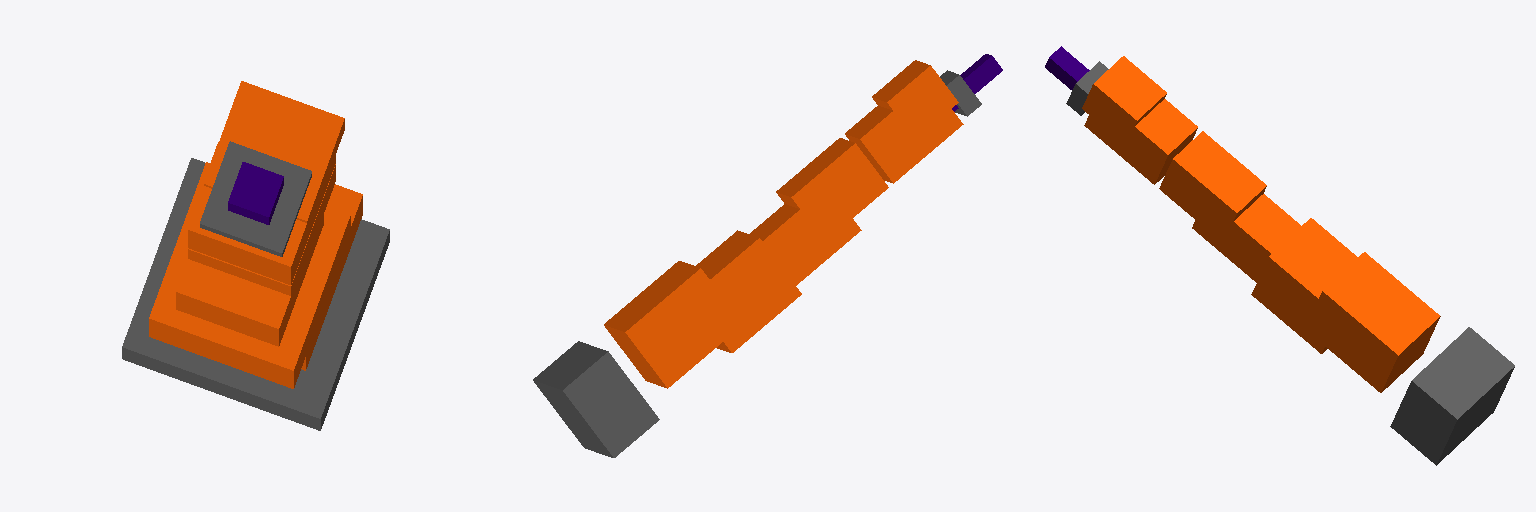
--- What the picture shows (computed from the rendered views, not written in the file) ---
The picture shows the robot from 3 angles, left to right: view 1: azimuth 30°, elevation 25°; view 2: azimuth 150°, elevation 25°; view 3: azimuth 270°, elevation 25°; orthographic projection.
Robot: bh_robot — 23 links, 22 joints (7 revolute, 15 fixed); root link world; default pose: every joint at zero.
Links seen in each view (by area): view 1: bh_link_0, bh_link_2, bh_link_6, bh_link_3, bh_link_7, bh_link_5, peg_base, bh_link_4, bh_link_1; view 2: bh_link_1, bh_link_0, bh_link_2, bh_link_3, bh_link_5, bh_link_4, bh_link_6, peg_base, bh_link_7; view 3: bh_link_1, bh_link_0, bh_link_2, bh_link_4, bh_link_5, bh_link_3, bh_link_6, peg_base, bh_link_7.
Boxes of the visible links, x1=… form: bh_link_0: x1=122, y1=158, x2=389, y2=430; bh_link_2: x1=149, y1=162, x2=350, y2=388; bh_link_6: x1=204, y1=81, x2=344, y2=231; bh_link_3: x1=176, y1=215, x2=323, y2=346; bh_link_7: x1=200, y1=141, x2=311, y2=256; bh_link_5: x1=188, y1=146, x2=335, y2=284; peg_base: x1=228, y1=162, x2=283, y2=224; bh_link_4: x1=188, y1=164, x2=335, y2=302; bh_link_1: x1=211, y1=142, x2=362, y2=370; bh_link_1: x1=604, y1=261, x2=743, y2=388; bh_link_0: x1=533, y1=341, x2=659, y2=457; bh_link_2: x1=691, y1=230, x2=801, y2=352; bh_link_3: x1=750, y1=186, x2=861, y2=285; bh_link_5: x1=845, y1=80, x2=963, y2=183; bh_link_4: x1=776, y1=138, x2=888, y2=217; bh_link_6: x1=872, y1=60, x2=958, y2=138; peg_base: x1=952, y1=54, x2=1002, y2=111; bh_link_7: x1=940, y1=70, x2=981, y2=116; bh_link_1: x1=1305, y1=252, x2=1440, y2=392; bh_link_0: x1=1390, y1=327, x2=1514, y2=465; bh_link_2: x1=1251, y1=218, x2=1357, y2=353; bh_link_4: x1=1159, y1=131, x2=1266, y2=242; bh_link_5: x1=1084, y1=99, x2=1197, y2=184; bh_link_3: x1=1192, y1=194, x2=1300, y2=282; bh_link_6: x1=1082, y1=56, x2=1166, y2=145; peg_base: x1=1045, y1=46, x2=1089, y2=89; bh_link_7: x1=1066, y1=61, x2=1108, y2=115.
Size in the robot's own frame: 0.8056 by 1.21 by 0.8948 metres.
0 mesh visuals loaded from 1 distinct referenced files (none loaded); not drawn: 1 (reference not matched to a file when rendering).

The robot description file, URDF, robot "bh_robot":
<?xml version="1.0" encoding="utf-8"?>
<!-- =================================================================================== -->
<!-- |    This document was autogenerated by xacro from iiwa_left.urdf.xacro           | -->
<!-- |    But then it was adapted by hand ¯\_(ツ)_/¯                                   | -->
<!-- |    Manual changes:                                                              | -->
<!-- |     - Disabled visuals and collision for the table and the box                  | -->
<!-- |     - Replaced iiwa joint collision mesh with box                               | -->
<!-- |     - Inserted peg                                                              | -->
<!-- |     - Configured safety limits as hardware limits                               | -->
<!-- =================================================================================== -->
<robot name="bh_robot">
  <material name="Black">
    <color rgba="0.0 0.0 0.0 1.0"/>
  </material>
  <material name="Blue">
    <color rgba="0.0 0.0 0.8 1.0"/>
  </material>
  <material name="Green">
    <color rgba="0.0 0.8 0.0 1.0"/>
  </material>
  <material name="Grey">
    <color rgba="0.4 0.4 0.4 1.0"/>
  </material>
  <material name="Orange">
    <color rgba="1.0 0.423529411765 0.0392156862745 1.0"/>
  </material>
  <material name="Brown">
    <color rgba="0.870588235294 0.811764705882 0.764705882353 1.0"/>
  </material>
  <material name="Red">
    <color rgba="0.8 0.0 0.0 1.0"/>
  </material>
  <material name="White">
    <color rgba="1.0 1.0 1.0 1.0"/>
  </material>
  <!-- Insert the BASE -->
  <link name="world"/>
  <!--  Define the origin of your 3D space
  Here we define a box lying at 0,0,0 with some dimensions, in reality our robot is place on top of a metal cart with those dimensions.
  This will include the cart in the scene and avoid the robot to hit it when using MoveIt!
  If you don't want to have that you can define a basic world link (see commented lines)
  -->
  <joint name="footprint_joint" type="fixed">
    <parent link="world"/>
    <child link="base_link"/>
    <origin rpy="0 0 0" xyz="0 0 0"/>
  </joint>
  <joint name="table_origin_joint" type="fixed">
    <parent link="base_link"/>
    <child link="table_origin"/>
    <origin xyz="0 0 0.83"/>
  </joint>
  <joint name="torso_origin_joint" type="fixed">
    <parent link="table_origin"/>
    <child link="torso_origin"/>
    <!-- x: 185mm from the CAD plus 1mm shift in mounting position y: centered half width of the table -->
    <origin xyz="0.186 0.4 0"/>
  </joint>
  <joint name="plate_1_inner_joint" type="fixed">
    <parent link="table_origin"/>
    <child link="plate_1_inner"/>
    <origin rpy="0 0 3.14159265359" xyz="1.45 0.194 0.02"/>
  </joint>
  <!-- commented out since they are typically not used
  <joint name="plate_1_outer_joint" type="fixed">
    <parent link="plate_1_inner"/>
    <child link = "plate_1_outer"/>
    <origin xyz="0 0.05 0" rpy="0 0 0" />
  </joint>
  -->
  <joint name="plate_2_inner_joint" type="fixed">
    <parent link="table_origin"/>
    <child link="plate_2_inner"/>
    <origin rpy="0 0 3.14159265359" xyz="1.45 0.606 0.02"/>
  </joint>
  <!-- commented out since they are typically not used
  <joint name="plate_2_outer_joint" type="fixed">
    <parent link="plate_2_inner"/>
    <child link = "plate_2_outer"/>
    <origin xyz="0 -0.05 0" rpy="0 0 0" />
  </joint>
  -->
  <link name="table_origin">
  </link>
  <link name="torso_origin">
  </link>
  <!-- commented out since they are typically not used
  <link name="plate_1_outer">
  </link>
  -->
  <!-- this one is typically used -->
  <link name="plate_1_inner">
  </link>
  <!-- commented out since they are typically not used
  <link name="plate_2_outer">
  </link>
  -->
  <!-- this one is typically used -->
  <link name="plate_2_inner">
  </link>
  <link name="base_link">
    <inertial>
      <origin rpy="0 0 0" xyz="0.8 0.4 0.415"/>
      <mass value="100.0"/>
      <inertia ixx="11.074162237" ixy="0.0" ixz="0.0" iyy="27.074155837" iyz="0.0" izz="26.666656"/>
    </inertial>
    <!-- <visual>
      <origin rpy="0 0 0" xyz="0.8 0.4 0.415"/>
      <geometry>
        <box size="1.6 0.8 0.83"/>
      </geometry>
      <material name="White"/>
    </visual>
    <collision>
      <origin rpy="0 0 0" xyz="0.8 0.4 0.415"/>
      <geometry>
        <box size="1.6 0.8 0.83"/>
      </geometry>
    </collision> -->
  </link>
  <gazebo reference="box_link">
    <material>Gazebo/Orange</material>
    <mu1>0.2</mu1>
    <mu2>0.2</mu2>
  </gazebo>
  <joint name="box_joint" type="fixed">
    <parent link="base_link"/>
    <child link="box_link"/>
    <origin rpy="0 0 0" xyz="0 0 0"/>
  </joint>
  <joint name="box_origin_joint" type="fixed">
    <parent link="box_link"/>
    <child link="box_origin"/>
    <origin xyz="-0.01 0 0.567"/>
  </joint>
  <link name="box_link">
    <inertial>
      <origin rpy="0 0 0" xyz="-0.41 0.4 0.2835"/>
      <mass value="100.0"/>
      <inertia ixx="8.01240512837" ixy="0.0" ixz="0.0" iyy="8.01240512837" iyz="0.0" izz="10.6666624"/>
    </inertial>
    <!-- <visual>
      <origin rpy="0 0 0" xyz="-0.41 0.4 0.2835"/>
      <geometry>
        <box size="0.8 0.8 0.567"/>
      </geometry>
      <material name="Orange"/>
    </visual>
    <collision>
      <origin rpy="0 0 0" xyz="-0.41 0.4 0.2835"/>
      <geometry>
        <box size="0.8 0.8 0.567"/>
      </geometry>
    </collision> -->
  </link>
  <link name="box_origin">
  </link>
  <joint name="iiwa_torso_base_joint" type="fixed">
    <parent link="torso_origin"/>
    <child link="iiwa_torso_base"/>
    <origin rpy="0 0 3.14159265359" xyz="0 0 0"/>
  </joint>
  <joint name="iiwa_torso_left_joint" type="fixed">
    <parent link="iiwa_torso_base"/>
    <child link="iiwa_torso_left"/>
    <origin rpy="-1.01985341 -0.3007097 -0.70361386" xyz="0.065 0.1126 0.10074"/>
  </joint>
  <joint name="iiwa_torso_right_joint" type="fixed">
    <parent link="iiwa_torso_base"/>
    <child link="iiwa_torso_right"/>
    <origin rpy="1.01985341 -0.3007097  0.70361386" xyz="0.065 -0.1126 0.10074"/>
  </joint>
  <joint name="iiwa_torso_back_joint" type="fixed">
    <parent link="iiwa_torso_base"/>
    <child link="iiwa_torso_back"/>
    <origin rpy="1.01985341 -0.3007097 -1.39078124" xyz="-0.13 0 0.10074"/>
  </joint>
  <link name="iiwa_torso_left">
    </link>
  <link name="iiwa_torso_right">
    </link>
  <link name="iiwa_torso_back">
    </link>
  <link name="iiwa_torso_base">
    <inertial>
      <origin rpy="0 0 0" xyz="0 0 0"/>
      <mass value="17.097"/>
      <inertia ixx="0.231426028862462" ixy="3.4651505109641E-07" ixz="9.00820316949685E-07" iyy="0.352096317978007" iyz="1.23740976421988E-05" izz="0.231751030960783"/>
    </inertial>
    <visual>
      <origin rpy="0 0 0" xyz="0 0 0"/>
      <geometry>
        <mesh filename="package://bh_description/meshes/iiwa_mount/iiwa_torso.stl"/>
      </geometry>
      <material name="grey">
        <color rgba="0.8667 0.86667 0.8902 1"/>
      </material>
    </visual>
    <!--
        <collision>
        <origin
            xyz="${mount_origin}" rpy="0 0 0" />
        <geometry>
            <mesh
            filename="package://bh_description/meshes/iiwa_mount/iiwa_torso.stl" />
        </geometry>
        </collision>
        -->
  </link>
  <!--joint between {parent} and link_0-->
  <joint name="iiwa_torso_left_bh_joint" type="fixed">
    <origin rpy="0 0 0" xyz="0 0 0"/>
    <parent link="iiwa_torso_left"/>
    <child link="bh_link_0"/>
  </joint>
  <link name="bh_link_0">
    <inertial>
      <origin rpy="0 0 0" xyz="-0.1 0 0.07"/>
      <mass value="5"/>
      <inertia ixx="0.05" ixy="0" ixz="0" iyy="0.06" iyz="0" izz="0.03"/>
    </inertial>
    <visual>
      <origin rpy="0 0 0" xyz="0 0 0"/>
      <geometry>
        <!-- <mesh filename="package://iiwa_description/meshes/iiwa7/visual/link_0.stl"/> -->
        <box size="0.24 0.23 0.1575"/>
      </geometry>
      <material name="Grey"/>
    </visual>
    <collision>
      <origin rpy="0 0 0" xyz="0 0 0"/>
      <geometry>
        <!-- <mesh filename="package://iiwa_description/meshes/iiwa7/collision/link_0.stl"/> -->
        <box size="0.24 0.23 0.1575"/>
      </geometry>
      <material name="Grey"/>
    </collision>
    <self_collision_checking>
      <origin rpy="0 0 0" xyz="0 0 0"/>
      <geometry>
        <capsule length="0.25" radius="0.15"/>
      </geometry>
    </self_collision_checking>
  </link>
  <!-- joint between link_0 and link_1 -->
  <joint name="bh_joint_1" type="revolute">
    <parent link="bh_link_0"/>
    <child link="bh_link_1"/>
    <origin rpy="0 0 0" xyz="0 0 0.15"/>
    <axis xyz="0 0 1"/>
    <limit effort="176" lower="-2.81870674197" upper="2.81870674197" velocity="1.71042266695"/>
    <safety_controller k_position="100" k_velocity="10" soft_lower_limit="-2.81870674197" soft_upper_limit="2.81870674197"/>
    <dynamics damping="0.5"/>
  </joint>
  <link name="bh_link_1">
    <inertial>
      <origin rpy="0 0 0" xyz="0 -0.03 0.12"/>
      <mass value="3.4525"/>
      <inertia ixx="0.02183" ixy="0" ixz="0" iyy="0.007703" iyz="-0.003887" izz="0.02083"/>
    </inertial>
    <visual>
      <origin rpy="0 0 0" xyz="0 -0.02 0.13"/>
      <geometry>
        <!-- <mesh filename="package://iiwa14/collision/link_1${collision_postfix}.stl"/> -->
        <box size="0.175 0.19 0.26"/>
      </geometry>
      <material name="Orange"/>
    </visual>
    <collision>
      <origin rpy="0 0 0" xyz="0 -0.02 0.13"/>
      <geometry>
        <!-- <mesh filename="package://iiwa14/collision/link_1${collision_postfix}.stl"/> -->
        <box size="0.175 0.19 0.26"/>
      </geometry>
      <material name="Orange"/>
    </collision>
  </link>
  <joint name="bh_joint_2" type="revolute">
    <parent link="bh_link_1"/>
    <child link="bh_link_2"/>
    <origin rpy="1.57079632679   0 3.14159265359" xyz="0 0 0.19"/>
    <axis xyz="0 0 1"/>
    <limit effort="176" lower="-1.98967534727" upper="1.98967534727" velocity="1.71042266695"/>
    <safety_controller k_position="100" k_velocity="10" soft_lower_limit="-1.98967534727" soft_upper_limit="1.98967534727"/>
    <dynamics damping="0.5"/>
  </joint>
  <link name="bh_link_2">
    <inertial>
      <origin rpy="0 0 0" xyz="0.0003 0.059 0.042"/>
      <mass value="3.4821"/>
      <inertia ixx="0.02076" ixy="0" ixz="-0.003626" iyy="0.02179" iyz="0" izz="0.00779"/>
    </inertial>
    <visual>
      <origin rpy="0 0 0" xyz="0 0.12 0.02"/>
      <geometry>
        <!-- <mesh filename="package://iiwa14/collision/link_2${collision_postfix}.stl"/> -->
        <box size="0.175 0.24 0.19"/>
      </geometry>
      <material name="Orange"/>
    </visual>
    <collision>
      <origin rpy="0 0 0" xyz="0 0.12 0.02"/>
      <geometry>
        <!-- <mesh filename="package://iiwa14/collision/link_2${collision_postfix}.stl"/> -->
        <box size="0.175 0.24 0.19"/>
      </geometry>
      <material name="Orange"/>
    </collision>
  </link>
  <joint name="bh_joint_3" type="revolute">
    <parent link="bh_link_2"/>
    <child link="bh_link_3"/>
    <origin rpy="1.57079632679 0 3.14159265359" xyz="0 0.21 0"/>
    <axis xyz="0 0 1"/>
    <limit effort="110" lower="-2.81870674197" upper="2.81870674197" velocity="1.74532925199"/>
    <safety_controller k_position="100" k_velocity="10" soft_lower_limit="-2.81870674197" soft_upper_limit="2.81870674197"/>
    <dynamics damping="0.5"/>
  </joint>
  <link name="bh_link_3">
    <inertial>
      <origin rpy="0 0 0" xyz="0 0.03 0.13"/>
      <mass value="4.05623"/>
      <inertia ixx="0.03204" ixy="0" ixz="0" iyy="0.00972" iyz="0.006227" izz="0.03042"/>
    </inertial>
    <visual>
      <origin rpy="0 0 0" xyz="0 0.02 0.13"/>
      <geometry>
        <!-- <mesh filename="package://iiwa14/collision/link_3${collision_postfix}.stl"/> -->
        <box size="0.125 0.15 0.26"/>
      </geometry>
      <material name="Orange"/>
    </visual>
    <collision>
      <origin rpy="0 0 0" xyz="0 0.02 0.13"/>
      <geometry>
        <!-- <mesh filename="package://iiwa14/collision/link_3${collision_postfix}.stl"/> -->
        <box size="0.125 0.15 0.26"/>
      </geometry>
      <material name="Orange"/>
    </collision>
  </link>
  <joint name="bh_joint_4" type="revolute">
    <parent link="bh_link_3"/>
    <child link="bh_link_4"/>
    <origin rpy="1.57079632679 0 0" xyz="0 0 0.19"/>
    <axis xyz="0 0 1"/>
    <limit effort="110" lower="-1.98967534727" upper="1.98967534727" velocity="2.26892802759"/>
    <safety_controller k_position="100" k_velocity="10" soft_lower_limit="-1.98967534727" soft_upper_limit="1.98967534727"/>
    <dynamics damping="0.5"/>
  </joint>
  <link name="bh_link_4">
    <inertial>
      <origin rpy="0 0 0" xyz="0 0.067 0.034"/>
      <mass value="3.4822"/>
      <inertia ixx="0.02178" ixy="0" ixz="0" iyy="0.02075" iyz="-0.003625" izz="0.007785"/>
    </inertial>
    <visual>
      <origin rpy="0 0 0" xyz="0 0.085 0.02"/>
      <geometry>
        <!-- <mesh filename="package://iiwa14/collision/link_4${collision_postfix}.stl"/> -->
        <box size="0.125 0.22 0.15"/>
      </geometry>
      <material name="Orange"/>
    </visual>
    <collision>
      <origin rpy="0 0 0" xyz="0 0.085 0.02"/>
      <geometry>
        <!-- <mesh filename="package://iiwa14/collision/link_4${collision_postfix}.stl"/> -->
        <box size="0.125 0.22 0.15"/>
      </geometry>
      <material name="Orange"/>
    </collision>
  </link>
  <joint name="bh_joint_5" type="revolute">
    <parent link="bh_link_4"/>
    <child link="bh_link_5"/>
    <origin rpy="-1.57079632679 3.14159265359 0" xyz="0 0.21 0"/>
    <axis xyz="0 0 1"/>
    <limit effort="110" lower="-2.81870674197" upper="2.81870674197" velocity="2.44346095279"/>
    <safety_controller k_position="100" k_velocity="10" soft_lower_limit="-2.81870674197" soft_upper_limit="2.81870674197"/>
    <dynamics damping="0.5"/>
  </joint>
  <link name="bh_link_5">
    <inertial>
      <origin rpy="0 0 0" xyz="0.0001 0.021 0.076"/>
      <mass value="2.1633"/>
      <inertia ixx="0.01287" ixy="0" ixz="0" iyy="0.005708" iyz="-0.003946" izz="0.01112"/>
    </inertial>
    <visual>
      <origin rpy="0 0 0" xyz="0 0.02 0.12"/>
      <geometry>
        <!-- <mesh filename="package://iiwa14/collision/link_5${collision_postfix}.stl"/> -->
        <box size="0.125 0.15 0.24"/>
      </geometry>
      <material name="Orange"/>
    </visual>
    <collision>
      <origin rpy="0 0 0" xyz="0 0.02 0.12"/>
      <geometry>
        <!-- <mesh filename="package://iiwa14/collision/link_5${collision_postfix}.stl"/> -->
        <box size="0.125 0.15 0.24"/>
      </geometry>
      <material name="Orange"/>
    </collision>
  </link>
  <joint name="bh_joint_6" type="revolute">
    <parent link="bh_link_5"/>
    <child link="bh_link_6"/>
    <origin rpy="1.57079632679 0 0" xyz="0 0.06070 0.19"/>
    <axis xyz="0 0 1"/>
    <limit effort="40" lower="-1.98967534727" upper="1.98967534727" velocity="3.14159265359"/>
    <safety_controller k_position="100" k_velocity="10" soft_lower_limit="-1.98967534727" soft_upper_limit="1.98967534727"/>
    <dynamics damping="0.5"/>
  </joint>
  <link name="bh_link_6">
    <inertial>
      <origin rpy="0 0 0" xyz="0 0.0006 0.0004"/>
      <mass value="2.3466"/>
      <inertia ixx="0.006509" ixy="0" ixz="0" iyy="0.006259" iyz="0.00031891" izz="0.004527"/>
    </inertial>
    <visual>
      <origin rpy="0 0 0" xyz="0 0 0"/>
      <geometry>
        <!-- <mesh filename="package://iiwa14/collision/link_6${collision_postfix}.stl"/> -->
        <box size="0.125 0.15 0.125"/>
      </geometry>
      <material name="Orange"/>
    </visual>
    <collision>
      <origin rpy="0 0 0" xyz="0 0 0"/>
      <geometry>
        <!-- <mesh filename="package://iiwa14/collision/link_6${collision_postfix}.stl"/> -->
        <box size="0.125 0.15 0.125"/>
      </geometry>
      <material name="Orange"/>
    </collision>
  </link>
  <joint name="bh_joint_7" type="revolute">
    <parent link="bh_link_6"/>
    <child link="bh_link_7"/>
    <origin rpy="-1.57079632679 3.14159265359 0" xyz="0 0.081 0.06070"/>
    <axis xyz="0 0 1"/>
    <limit effort="40" lower="-2.90160988144" upper="2.90160988144" velocity="3.14159265359"/>
    <safety_controller k_position="100" k_velocity="10" soft_lower_limit="-2.90160988144" soft_upper_limit="2.90160988144"/>
    <dynamics damping="0.5"/>
  </joint>
  <link name="bh_link_7">
    <inertial>
      <origin rpy="0 0 0" xyz="0 0 0.02"/>
      <mass value="3.129"/>
      <inertia ixx="0.01464" ixy="0.0005912" ixz="0" iyy="0.01465" iyz="0" izz="0.002872"/>
    </inertial>
    <visual>
      <origin rpy="0 0 0" xyz="0 0 0.017"/>
      <geometry>
        <!-- <mesh filename="package://iiwa14/collision/link_7${collision_postfix}.stl"/> -->
        <box size="0.1 0.1 0.05"/>
      </geometry>
      <material name="Grey"/>
    </visual>
    <collision>
      <origin rpy="0 0 0" xyz="0 0 0.017"/>
      <geometry>
        <!-- <mesh filename="package://iiwa14/collision/link_7${collision_postfix}.stl"/> -->
        <box size="0.1 0.1 0.05"/>
      </geometry>
      <material name="Grey"/>
    </collision>
  </link>
  <joint name="bh_joint_ee" type="fixed">
    <parent link="bh_link_7"/>
    <child link="bh_link_ee"/>
    <origin rpy="0 0 0" xyz="0 0 0.045"/>
  </joint>
  <link name="bh_link_ee">
    <inertial>
      <origin rpy="0 0 0" xyz="0 0 0"/>
      <mass value="1e-6"/>
      <inertia ixx="1" ixy="0" ixz="0" iyy="1" iyz="0" izz="1"/>
    </inertial>
  </link>
    <joint name="ee_peg_base_joint" type="fixed">
    <parent link="bh_link_ee"/>
    <child link="peg_base"/>
    <origin rpy="0 0 0" xyz="0 0 0"/>
  </joint>

  <joint name="peg_end_joint" type="fixed">
    <parent link="peg_base"/>
    <child link="peg"/>
    <origin rpy="0 0 0" xyz="0 0 0.1"/>
  </joint>

  <link name="peg"/>

  <link name="peg_base">
    <inertial>
      <origin rpy="0 0 0" xyz="0 0 0"/>
      <!-- Rough guess -->
      <mass value="0.3"/>
        <inertia ixx="0.000312499875" ixy="0.0" ixz="0.0" iyy="0.000312499875" iyz="0.0" izz="0.00012499995"/>
    </inertial>
    <visual>
      <origin rpy="0 0 0" xyz="0 0 0"/>
      <geometry>
        <!-- <mesh filename="package://bh_description/meshes/peg_and_hole/peg_3mm.stl" scale="0.001 0.001 0.001"/> -->
        <box size="0.05 0.05 0.2"/>
      </geometry>
      <material name="indigo">
        <color rgba="0.25 0.0 0.5 1"/>
      </material>
    </visual>
    <collision>
      <origin
          xyz="0 0 0" rpy="0 0 0" />
      <geometry>
          <!-- <mesh filename="package://bh_description/meshes/peg_and_hole/peg_3mm.stl" scale="0.001 0.001 0.001" /> -->
          <box size="0.05 0.05 0.2"/>
      </geometry>
    </collision>
  </link>

  <!-- Enable the Joint Feedback -->
  <gazebo reference="bh_joint_7">
    <provideFeedback>true</provideFeedback>
  </gazebo>
  <!-- The ft_sensor plugin -->
  <gazebo>
    <plugin filename="libgazebo_ros_ft_sensor.so" name="ft_sensor">
      <updateRate>50.0</updateRate>
      <topicName>/bh/state/CartesianWrench</topicName>
      <jointName>bh_joint_7</jointName>
    </plugin>
  </gazebo>
  <!-- Load Gazebo lib and set the robot namespace -->
  <gazebo>
    <plugin filename="libgazebo_ros_control.so" name="gazebo_ros_control">
      <robotNamespace>/bh</robotNamespace>
      <robotSimType>iiwa_gazebo/GravityCompensationHWSim</robotSimType>
    </plugin>
  </gazebo>
  <!-- Link0 -->
  <gazebo reference="bh_link_0">
    <material>Gazebo/Grey</material>
    <mu1>0.2</mu1>
    <mu2>0.2</mu2>
  </gazebo>
  <!-- Link1 -->
  <gazebo reference="bh_link_1">
    <material>Gazebo/Orange</material>
    <mu1>0.2</mu1>
    <mu2>0.2</mu2>
  </gazebo>
  <!-- Link2 -->
  <gazebo reference="bh_link_2">
    <material>Gazebo/Orange</material>
    <mu1>0.2</mu1>
    <mu2>0.2</mu2>
  </gazebo>
  <!-- Link3 -->
  <gazebo reference="bh_link_3">
    <material>Gazebo/Orange</material>
    <mu1>0.2</mu1>
    <mu2>0.2</mu2>
  </gazebo>
  <!-- Link4 -->
  <gazebo reference="bh_link_4">
    <material>Gazebo/Orange</material>
    <mu1>0.2</mu1>
    <mu2>0.2</mu2>
  </gazebo>
  <!-- Link5 -->
  <gazebo reference="bh_link_5">
    <material>Gazebo/Orange</material>
    <mu1>0.2</mu1>
    <mu2>0.2</mu2>
  </gazebo>
  <!-- Link6 -->
  <gazebo reference="bh_link_6">
    <material>Gazebo/Orange</material>
    <mu1>0.2</mu1>
    <mu2>0.2</mu2>
  </gazebo>
  <!-- Link7 -->
  <gazebo reference="bh_link_7">
    <material>Gazebo/Grey</material>
    <mu1>0.2</mu1>
    <mu2>0.2</mu2>
  </gazebo>
  <transmission name="bh_tran_1">
    <robotNamespace>/bh</robotNamespace>
    <type>transmission_interface/SimpleTransmission</type>
    <joint name="bh_joint_1">
      <hardwareInterface>hardware_interface/PositionJointInterface</hardwareInterface>
    </joint>
    <actuator name="bh_motor_1">
      <hardwareInterface>hardware_interface/PositionJointInterface</hardwareInterface>
      <mechanicalReduction>1</mechanicalReduction>
    </actuator>
  </transmission>
  <transmission name="bh_tran_2">
    <robotNamespace>/bh</robotNamespace>
    <type>transmission_interface/SimpleTransmission</type>
    <joint name="bh_joint_2">
      <hardwareInterface>hardware_interface/PositionJointInterface</hardwareInterface>
    </joint>
    <actuator name="bh_motor_2">
      <hardwareInterface>hardware_interface/PositionJointInterface</hardwareInterface>
      <mechanicalReduction>1</mechanicalReduction>
    </actuator>
  </transmission>
  <transmission name="bh_tran_3">
    <robotNamespace>/bh</robotNamespace>
    <type>transmission_interface/SimpleTransmission</type>
    <joint name="bh_joint_3">
      <hardwareInterface>hardware_interface/PositionJointInterface</hardwareInterface>
    </joint>
    <actuator name="bh_motor_3">
      <hardwareInterface>hardware_interface/PositionJointInterface</hardwareInterface>
      <mechanicalReduction>1</mechanicalReduction>
    </actuator>
  </transmission>
  <transmission name="bh_tran_4">
    <robotNamespace>/bh</robotNamespace>
    <type>transmission_interface/SimpleTransmission</type>
    <joint name="bh_joint_4">
      <hardwareInterface>hardware_interface/PositionJointInterface</hardwareInterface>
    </joint>
    <actuator name="bh_motor_4">
      <hardwareInterface>hardware_interface/PositionJointInterface</hardwareInterface>
      <mechanicalReduction>1</mechanicalReduction>
    </actuator>
  </transmission>
  <transmission name="bh_tran_5">
    <robotNamespace>/bh</robotNamespace>
    <type>transmission_interface/SimpleTransmission</type>
    <joint name="bh_joint_5">
      <hardwareInterface>hardware_interface/PositionJointInterface</hardwareInterface>
    </joint>
    <actuator name="bh_motor_5">
      <hardwareInterface>hardware_interface/PositionJointInterface</hardwareInterface>
      <mechanicalReduction>1</mechanicalReduction>
    </actuator>
  </transmission>
  <transmission name="bh_tran_6">
    <robotNamespace>/bh</robotNamespace>
    <type>transmission_interface/SimpleTransmission</type>
    <joint name="bh_joint_6">
      <hardwareInterface>hardware_interface/PositionJointInterface</hardwareInterface>
    </joint>
    <actuator name="bh_motor_6">
      <hardwareInterface>hardware_interface/PositionJointInterface</hardwareInterface>
      <mechanicalReduction>1</mechanicalReduction>
    </actuator>
  </transmission>
  <transmission name="bh_tran_7">
    <robotNamespace>/bh</robotNamespace>
    <type>transmission_interface/SimpleTransmission</type>
    <joint name="bh_joint_7">
      <hardwareInterface>hardware_interface/PositionJointInterface</hardwareInterface>
    </joint>
    <actuator name="bh_motor_7">
      <hardwareInterface>hardware_interface/PositionJointInterface</hardwareInterface>
      <mechanicalReduction>1</mechanicalReduction>
    </actuator>
  </transmission>
  <!--<primesense_camera name="realsense_$(arg left)" parent="$(arg left)_link_ee" joint_type="$(arg camera_joint_type)">
      <origin xyz="$(arg camera_xyz)" rpy="$(arg camera_rpy)"/>
    </primesense_camera>-->
</robot>
